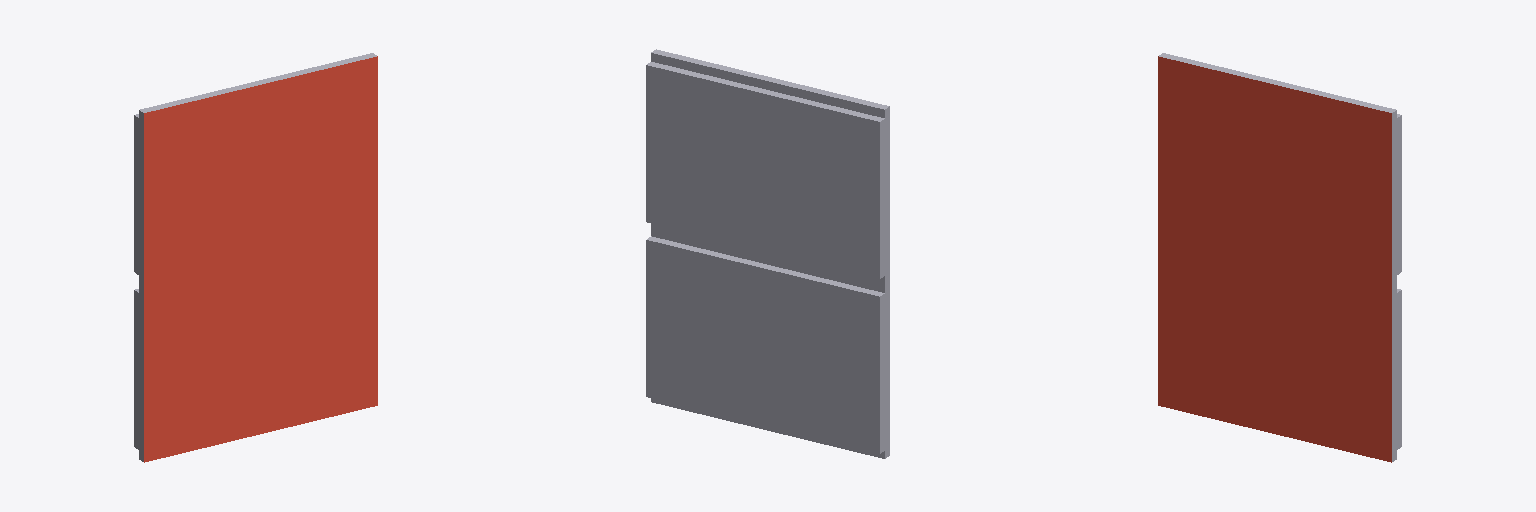
File: path_tilesShort.008.obj
The picture shows the model from 3 angles: view 1: azimuth 30°, elevation 25°; view 2: azimuth 150°, elevation 25°; view 3: azimuth 330°, elevation 25°; orthographic projection.
Parts seen in each view (by area): view 1: path_tilesShort.008; view 2: path_tilesShort.008; view 3: path_tilesShort.008.
Boxes of the visible parts, box(x1,y1,x2,y2) form: path_tilesShort.008: box(134, 53, 377, 462); path_tilesShort.008: box(646, 49, 889, 458); path_tilesShort.008: box(1158, 53, 1401, 462).
Size of the model in its own units: 0.14 by 0.2 by 0.01.